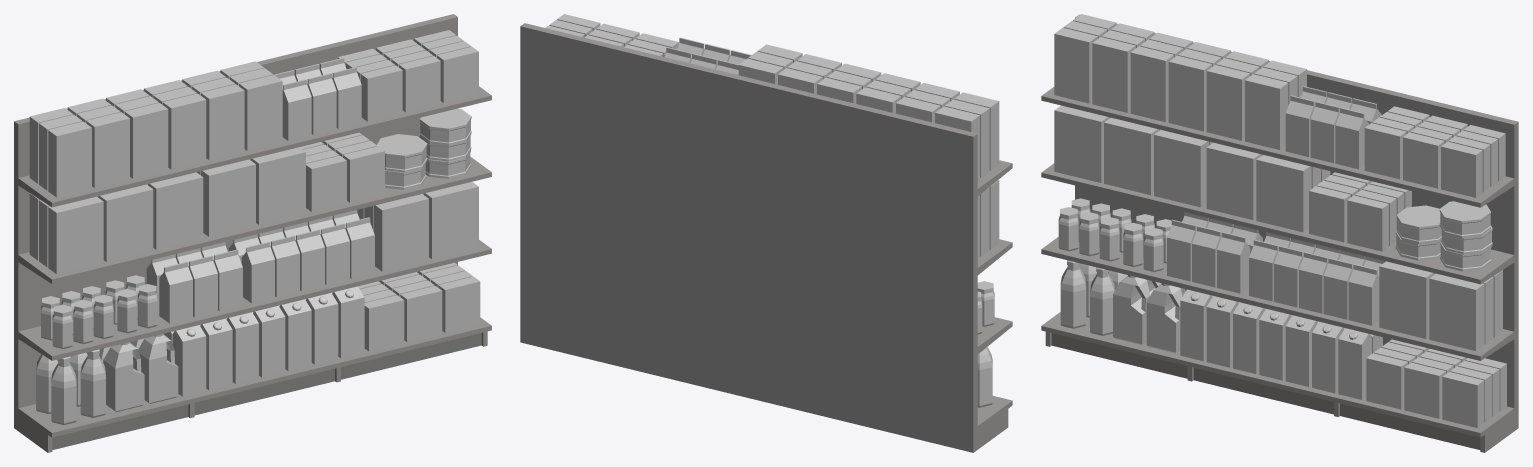
The model's file is SM_Props_Interior_SuperMarket_Shelves_Large_Preset_03.fbx.
The picture shows the model from 3 angles, left to right: view 1: azimuth 30°, elevation 25°; view 2: azimuth 150°, elevation 25°; view 3: azimuth 330°, elevation 25°; orthographic projection. The views are drawn at different scales.
Parts seen in each view (by area): view 1: SM_Props_Interior_SuperMarket_Shelves_Large_Preset_03_Produc, SM_Props_Interior_SuperMarket_Shelves_Large_Preset_03; view 2: SM_Props_Interior_SuperMarket_Shelves_Large_Preset_03, SM_Props_Interior_SuperMarket_Shelves_Large_Preset_03_Produc; view 3: SM_Props_Interior_SuperMarket_Shelves_Large_Preset_03_Produc, SM_Props_Interior_SuperMarket_Shelves_Large_Preset_03.
Boxes of the visible parts, bbox=[...] form: SM_Props_Interior_SuperMarket_Shelves_Large_Preset_03_Produc: bbox=[29, 30, 480, 424]; SM_Props_Interior_SuperMarket_Shelves_Large_Preset_03: bbox=[14, 14, 491, 452]; SM_Props_Interior_SuperMarket_Shelves_Large_Preset_03: bbox=[520, 23, 1012, 452]; SM_Props_Interior_SuperMarket_Shelves_Large_Preset_03_Produc: bbox=[545, 14, 999, 407]; SM_Props_Interior_SuperMarket_Shelves_Large_Preset_03_Produc: bbox=[1054, 14, 1506, 427]; SM_Props_Interior_SuperMarket_Shelves_Large_Preset_03: bbox=[1041, 14, 1518, 452].
Size of the model in its own units: 300 by 205 by 45.
